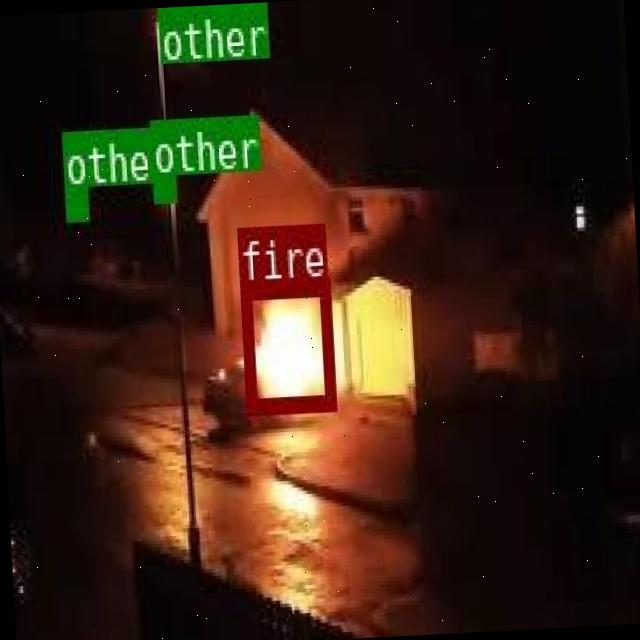fire: (240, 280, 334, 413)
